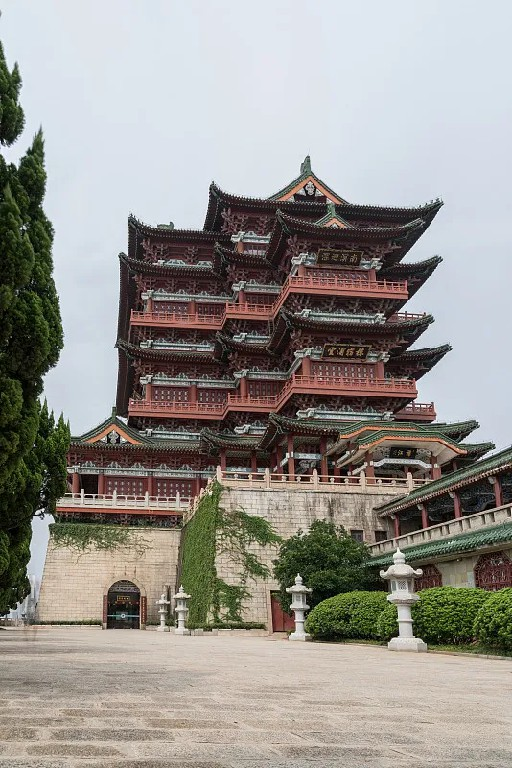Teng: (57, 154, 496, 517)
